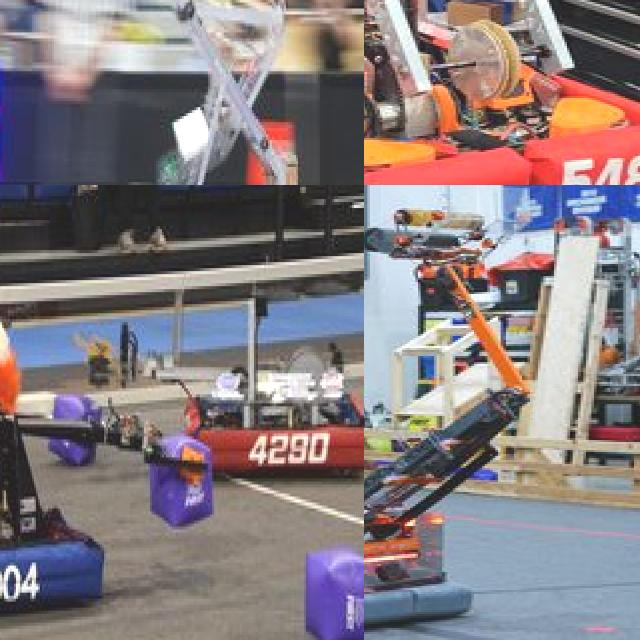FRC-Robots: (364, 199, 545, 633), (0, 315, 216, 640), (67, 278, 364, 479), (364, 0, 640, 185), (147, 0, 334, 185)
